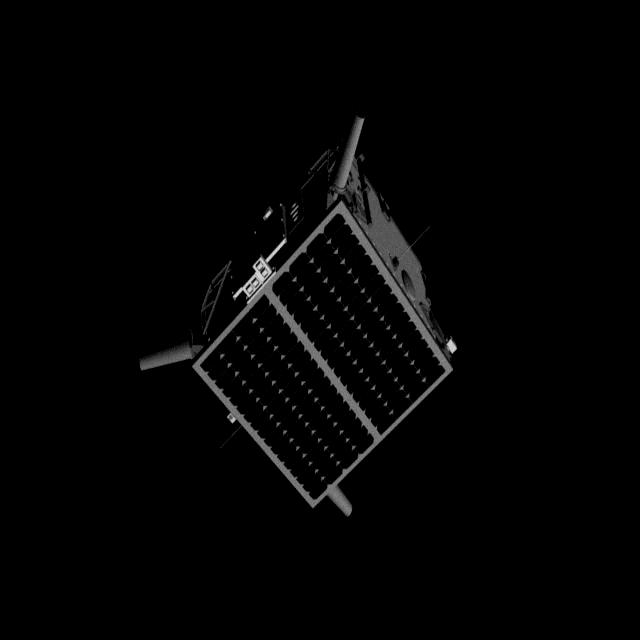satellite: (124, 114, 462, 528)
